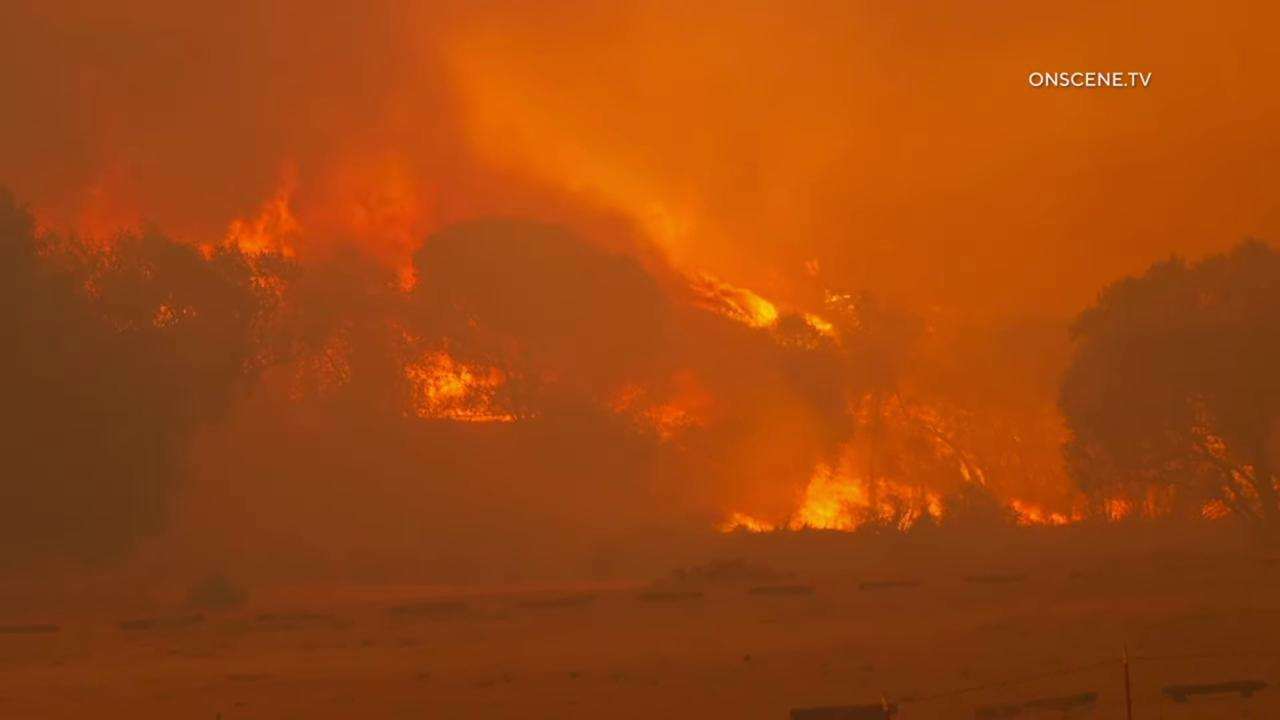fire: (705, 389, 991, 538), (383, 313, 538, 426), (190, 159, 312, 302), (678, 265, 781, 336), (1007, 480, 1100, 530), (390, 249, 426, 294), (798, 307, 833, 343), (1102, 493, 1133, 523)
smoke: (0, 0, 1280, 720)
